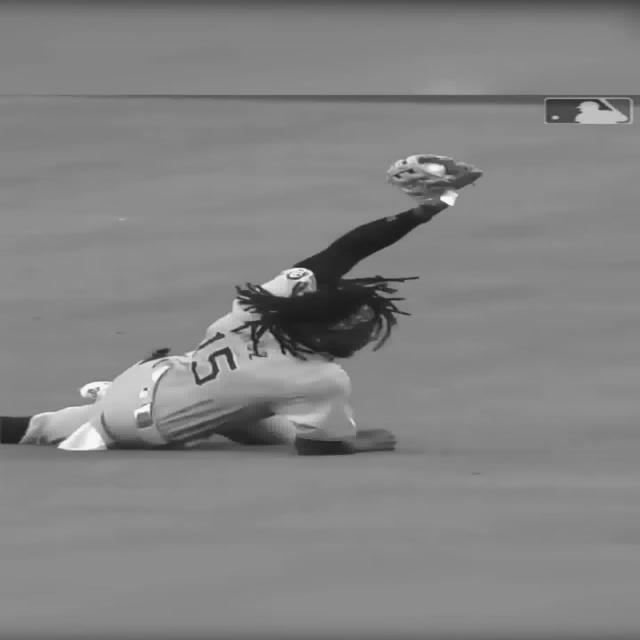baseball: (422, 163, 453, 177)
baseball_glove: (384, 154, 481, 198)
